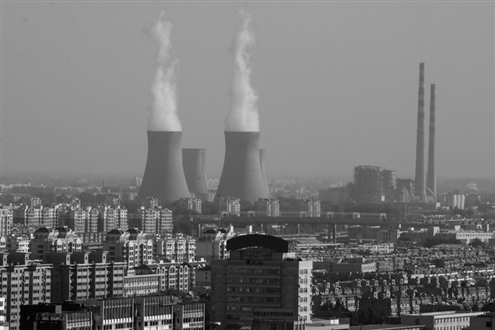dust: (221, 56, 267, 133), (144, 53, 185, 137)
